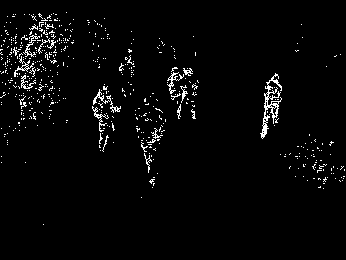person: (134, 93, 165, 188), (92, 82, 121, 154), (261, 71, 282, 140), (179, 65, 200, 122), (167, 65, 183, 121)
